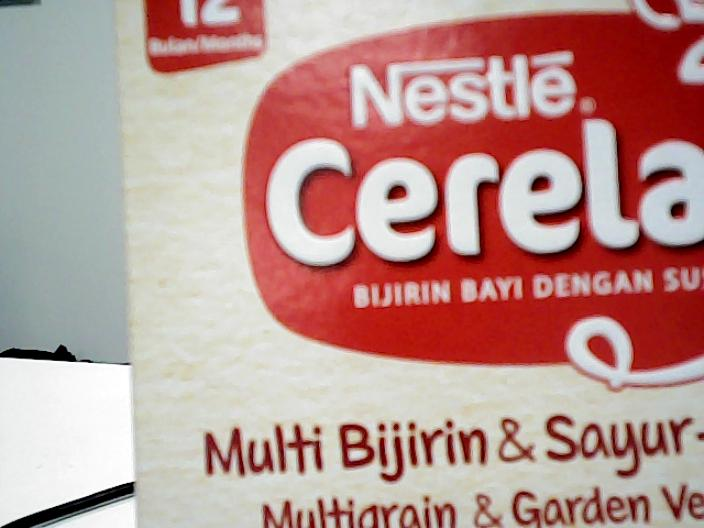Babyfood_200-299g_Halal_NonHealthy: (136, 1, 704, 527)
